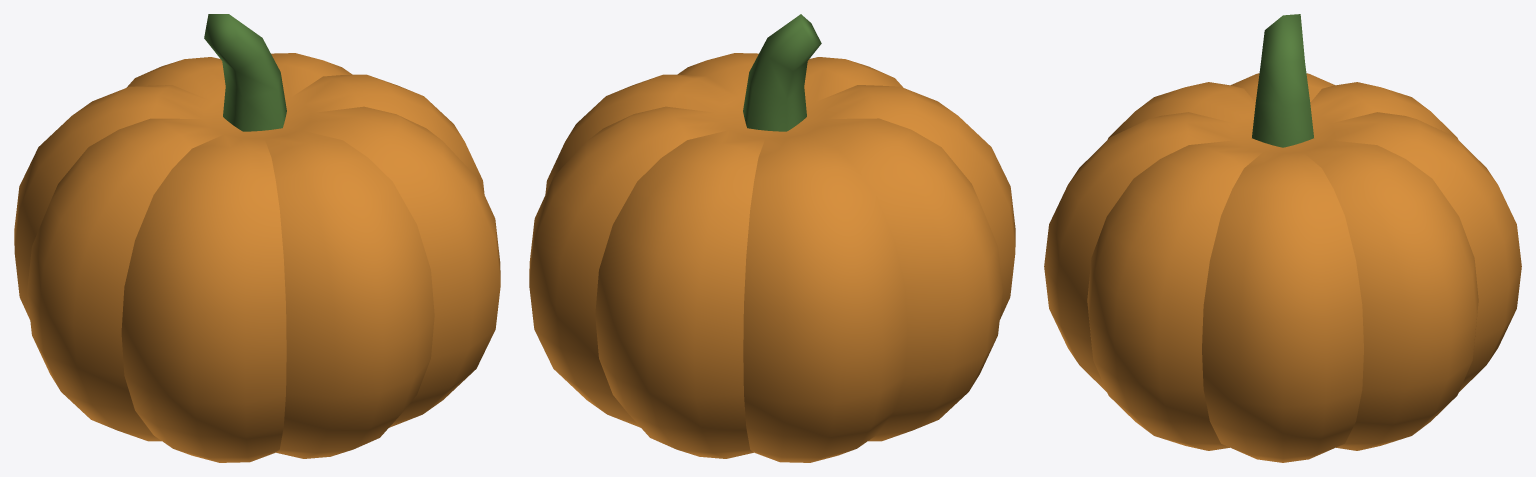
Rendered from Pumpkin.fbx.
3 renders of one model, left to right at view 1: azimuth 30°, elevation 25°; view 2: azimuth 150°, elevation 25°; view 3: azimuth 270°, elevation 25°, orthographic. The views are drawn at different scales.
Visible parts, largest first — view 1: Pumpkin, Stem; view 2: Pumpkin, Stem; view 3: Pumpkin, Stem.
Boxes of the visible parts, <box> form: Pumpkin: <box>14,53,500,462</box>; Stem: <box>204,14,286,131</box>; Pumpkin: <box>529,53,1015,462</box>; Stem: <box>743,14,821,131</box>; Pumpkin: <box>1044,73,1521,462</box>; Stem: <box>1252,14,1313,147</box>.
Bounding box in the file's own units: 2 × 1.77 × 2.
